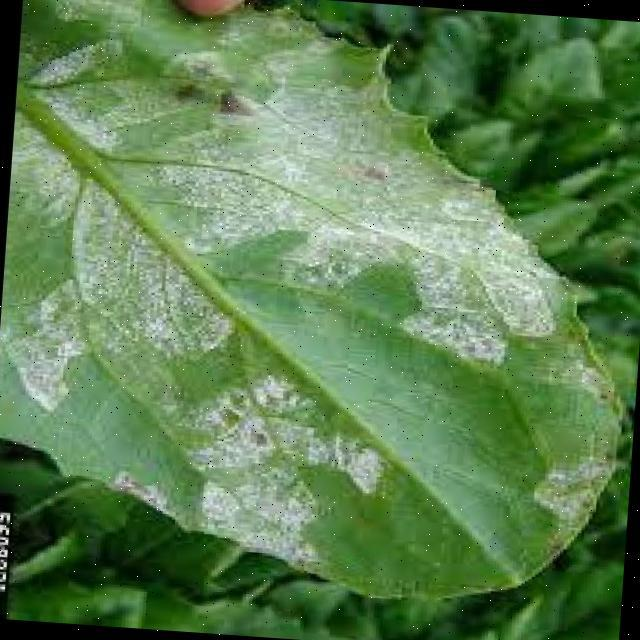Downy_Mildew: (0, 113, 405, 448)
